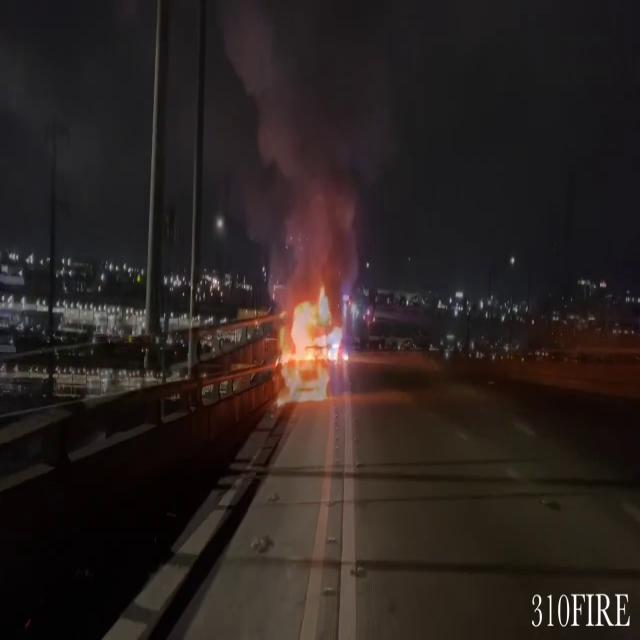Smoke: (226, 0, 394, 270)
